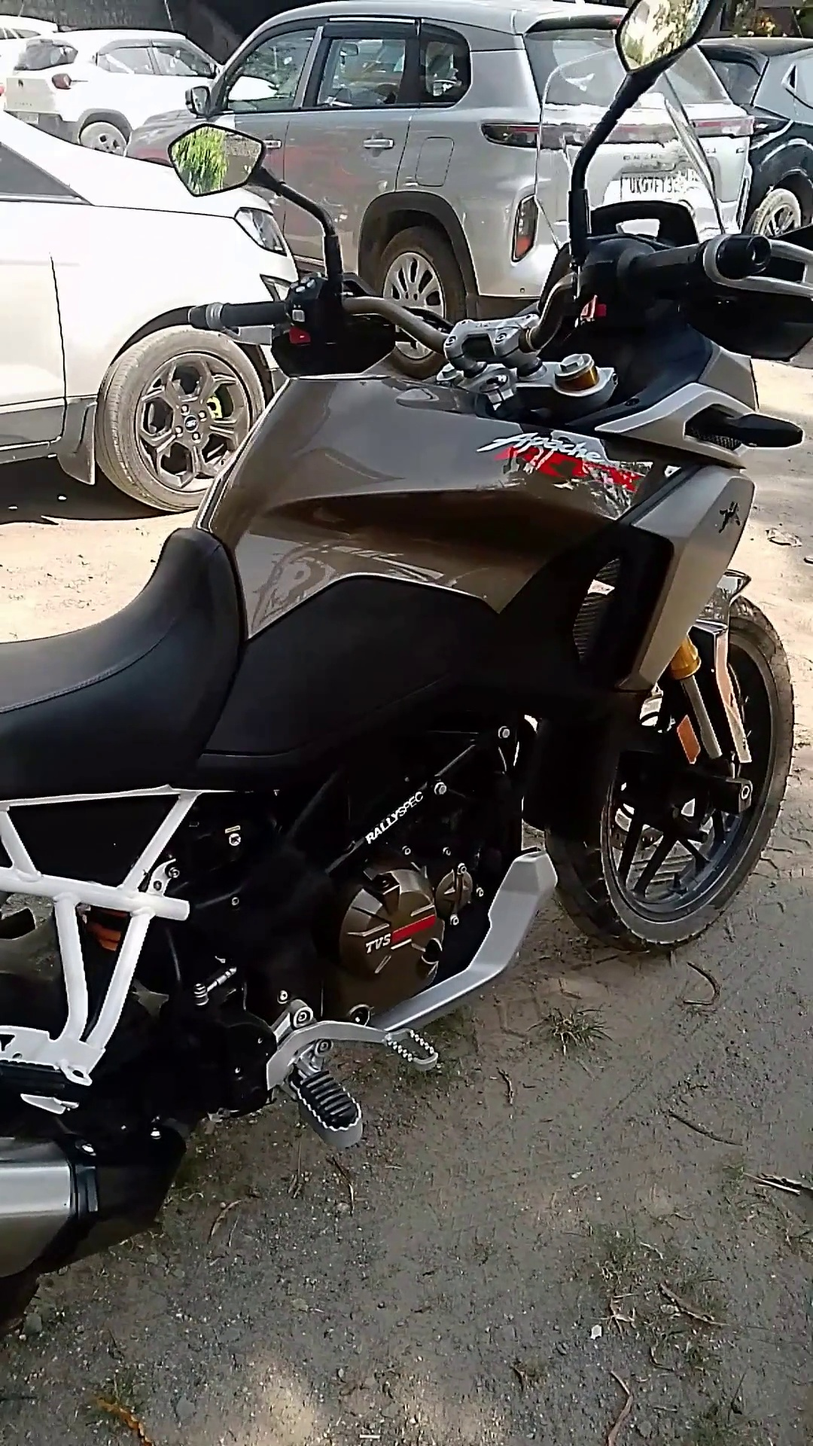bike-engine: (332, 862, 477, 1034)
bike-engine-level: (349, 1005, 374, 1029)
bike-oil-cap: (415, 934, 444, 969)
